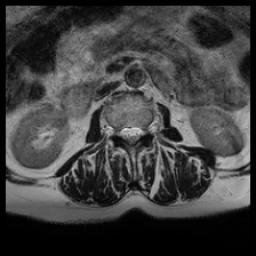CCS_normal: (128, 118, 134, 149)
LFS_normal: (142, 118, 149, 143)
LLS_normal: (134, 121, 142, 144)
RFS_normal: (112, 120, 120, 142)
RLS_normal: (120, 121, 128, 143)
